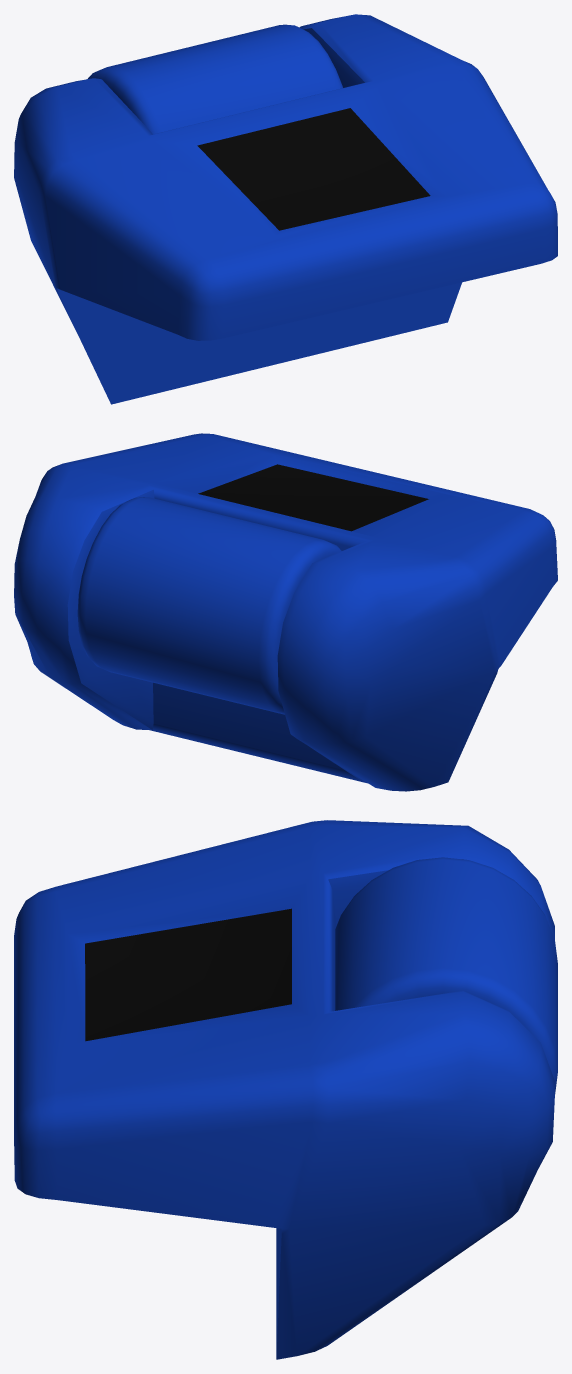
File: WeaponBase_2.fbx
3 renders of one model, top to bottom at view 1: azimuth 30°, elevation 25°; view 2: azimuth 150°, elevation 25°; view 3: azimuth 270°, elevation 25°, orthographic. The views are drawn at different scales.
Visible parts, largest first — view 1: WeaponBase; view 2: WeaponBase; view 3: WeaponBase.
Boxes of the visible parts, x1,y1,x2,y2 form: WeaponBase: (14,14,557,404); WeaponBase: (14,433,557,791); WeaponBase: (14,820,557,1359).
Size of the model in its own units: 99.43 by 57.55 by 82.73.
